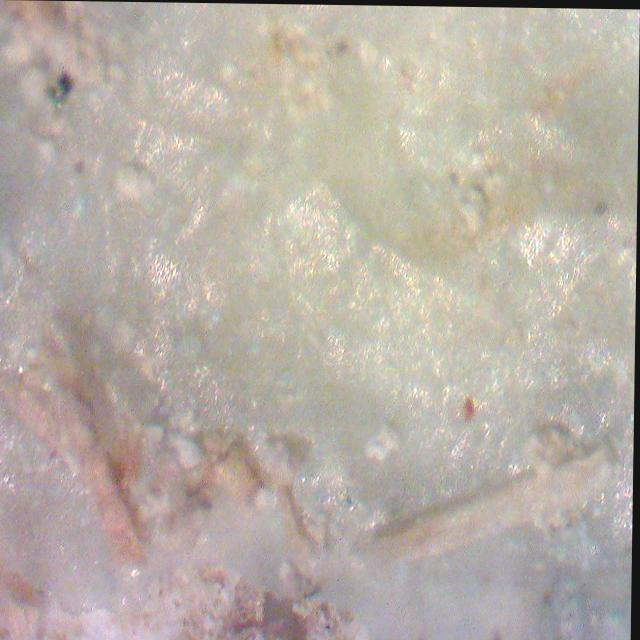microplastic: (0, 1, 640, 640)
